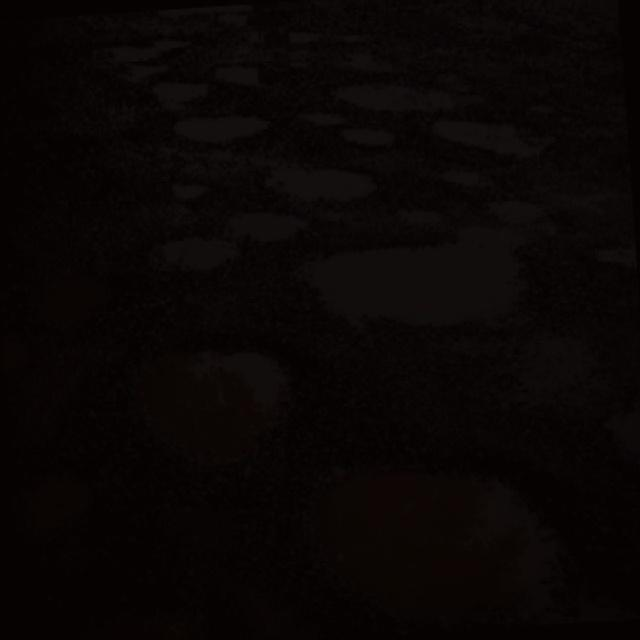Pothole: (310, 438, 598, 640), (298, 215, 548, 349), (125, 330, 298, 481), (1, 254, 117, 322), (256, 156, 388, 211), (428, 114, 570, 161), (71, 596, 218, 640), (17, 459, 106, 531), (222, 191, 322, 247), (344, 77, 461, 121), (150, 220, 238, 276), (12, 388, 93, 442), (581, 223, 640, 285), (171, 110, 277, 144), (159, 0, 285, 22), (140, 78, 212, 114), (422, 159, 498, 193), (609, 396, 640, 466), (100, 42, 212, 61), (210, 58, 268, 94), (3, 320, 30, 390), (298, 103, 350, 134), (343, 121, 399, 147), (162, 178, 212, 206), (116, 62, 173, 86), (281, 28, 317, 40)
